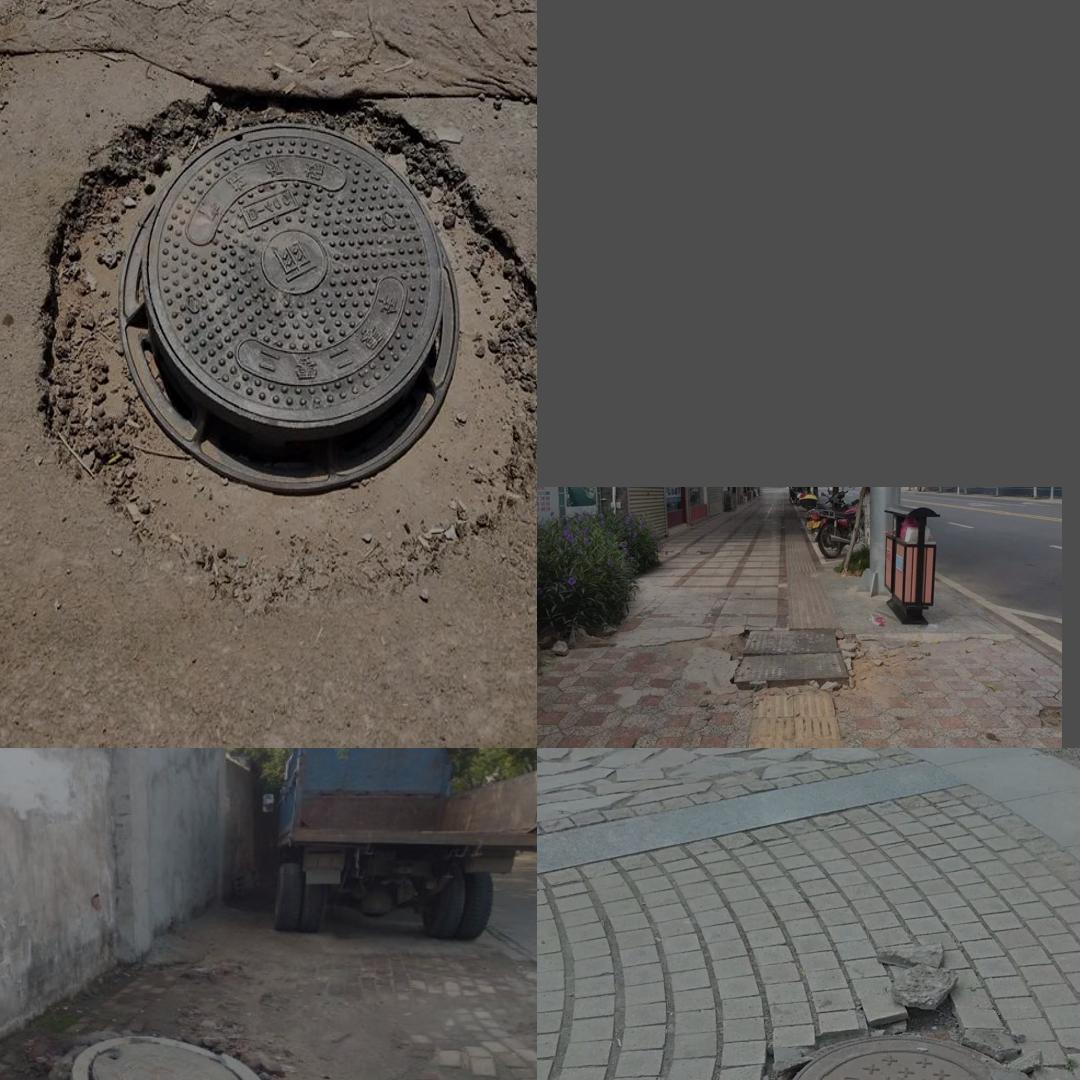circle: (43, 93, 527, 600), (712, 982, 1080, 1080), (710, 612, 883, 718), (67, 1033, 310, 1080)
